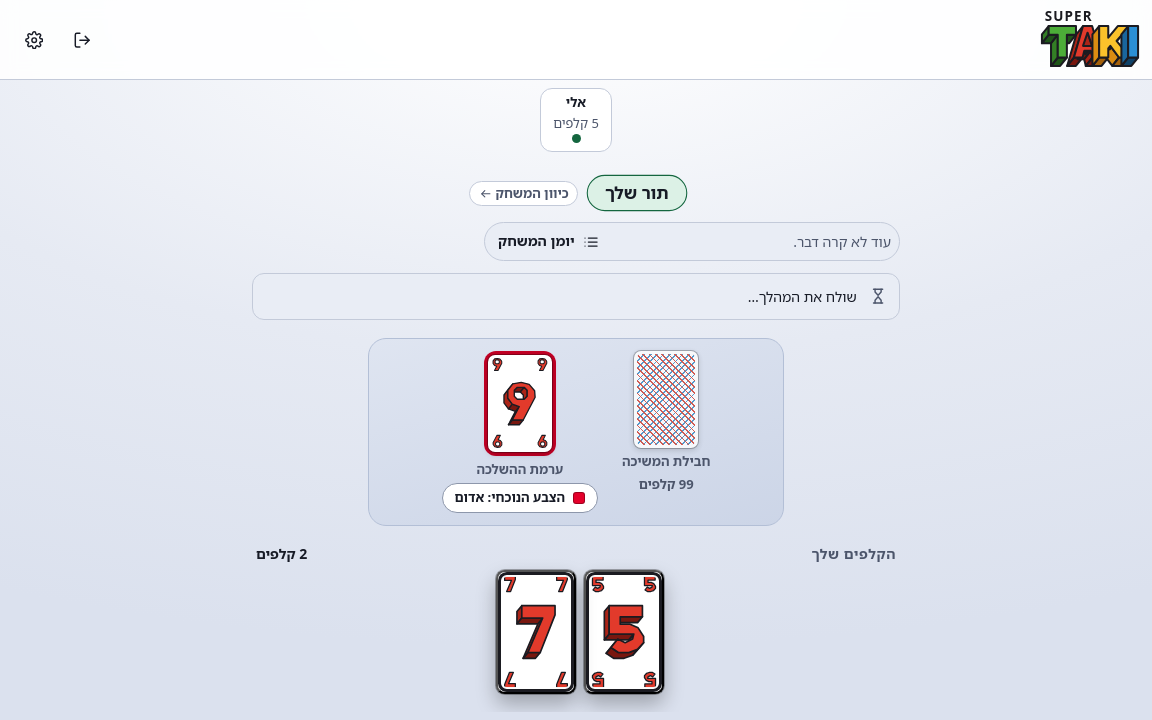
Test case: a move in flight › locks the hand and the pile until the table answers
Click the button named "הנחת אדום 5" at {"x": 624, "y": 632}, box [584,570,664,694]
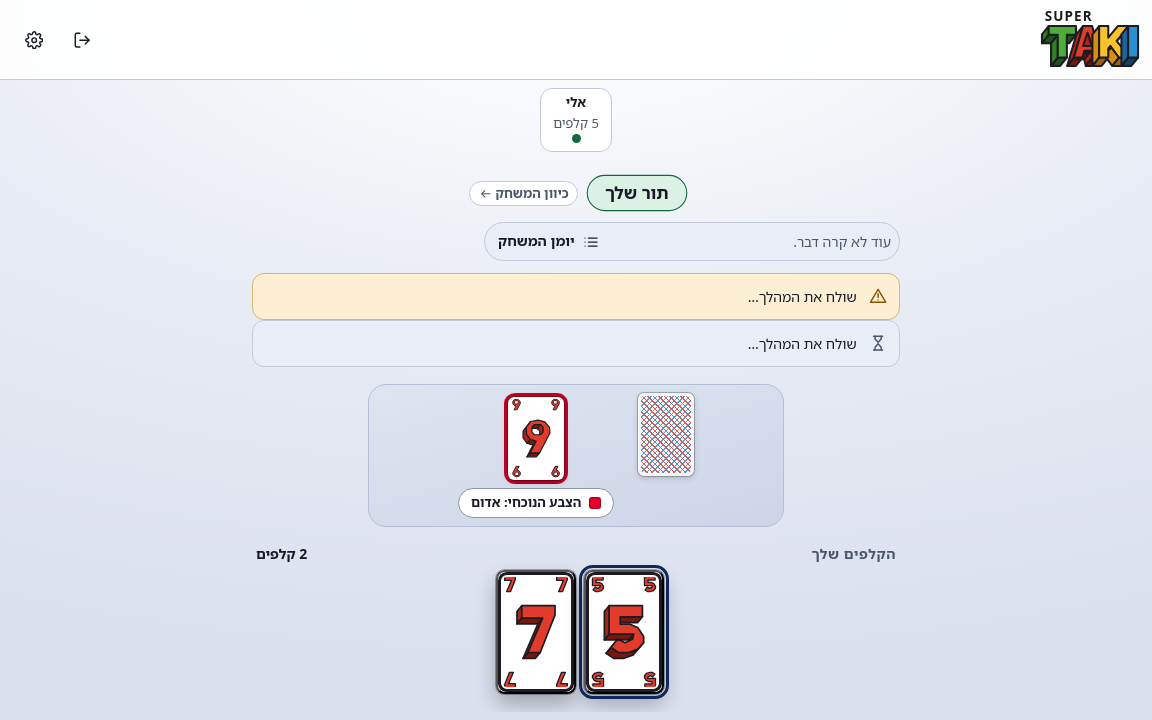
expect the 1st message "שולח את המהלך…" is shown: met, box [252,273,900,320]
